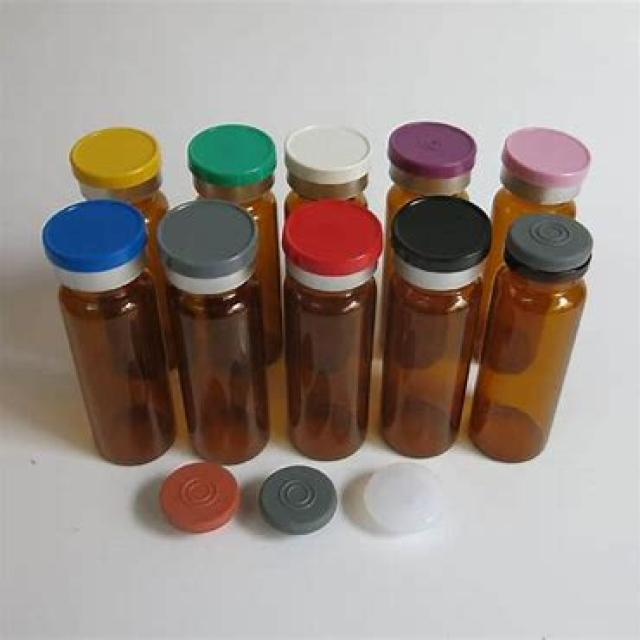vial: (386, 117, 475, 172), (504, 129, 591, 184), (396, 204, 484, 257), (283, 207, 377, 256), (512, 212, 584, 272), (50, 204, 132, 256), (157, 207, 246, 254), (283, 124, 371, 170), (67, 130, 148, 178), (192, 127, 276, 173)
